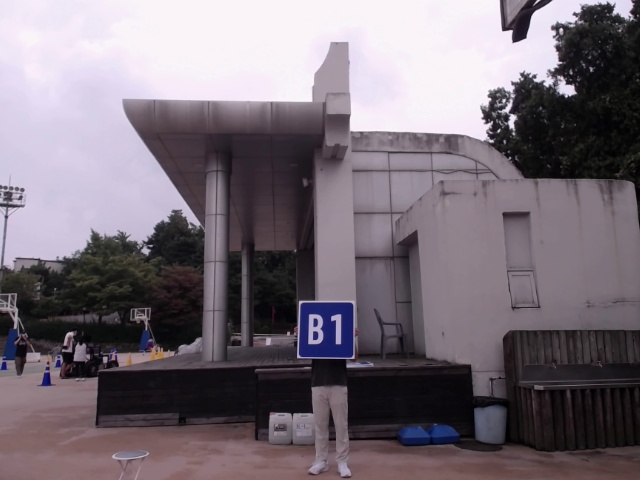delivery_b1: (298, 301, 354, 359)
